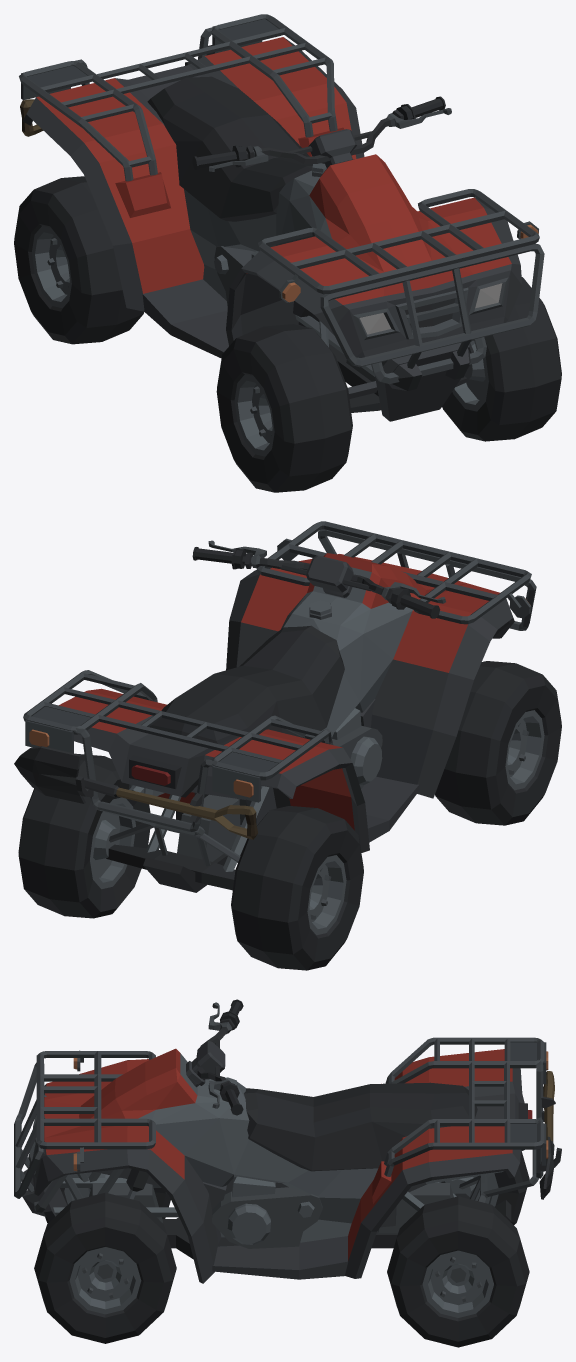
The model's file is SM_Veh_QuadBike_01.fbx.
3 views of the same model, one above another, from view 1: azimuth 30°, elevation 25°; view 2: azimuth 150°, elevation 25°; view 3: azimuth 270°, elevation 25° (orthographic). The views are drawn at different scales.
Visible parts, largest first — view 1: SM_Veh_QuadBike_01, SM_Veh_QuadBike_Wheel_fr, SM_Veh_QuadBike_Wheel_rr, SM_Veh_QuadBike_Wheel_fl, SM_Veh_QuadBike_HandleBar_01; view 2: SM_Veh_QuadBike_01, SM_Veh_QuadBike_Wheel_rr, SM_Veh_QuadBike_Wheel_fr, SM_Veh_QuadBike_Wheel_rl, SM_Veh_QuadBike_Shovel_01, SM_Veh_QuadBike_HandleBar_01; view 3: SM_Veh_QuadBike_01, SM_Veh_QuadBike_Wheel_rl, SM_Veh_QuadBike_Wheel_fl, SM_Veh_QuadBike_HandleBar_01, SM_Veh_QuadBike_Wheel_rr, SM_Veh_QuadBike_Shovel_01, SM_Veh_QuadBike_Wheel_fr.
Part boxes in pixels (x1,y1,x2,y2): SM_Veh_QuadBike_01: (19, 14, 544, 421); SM_Veh_QuadBike_Wheel_fr: (216, 324, 352, 492); SM_Veh_QuadBike_Wheel_rr: (14, 176, 143, 344); SM_Veh_QuadBike_Wheel_fl: (442, 277, 561, 441); SM_Veh_QuadBike_HandleBar_01: (192, 96, 451, 171); SM_Veh_QuadBike_01: (23, 521, 536, 892); SM_Veh_QuadBike_Wheel_rr: (231, 806, 363, 970); SM_Veh_QuadBike_Wheel_fr: (435, 661, 561, 825); SM_Veh_QuadBike_Wheel_rl: (18, 753, 150, 918); SM_Veh_QuadBike_Shovel_01: (14, 746, 257, 839); SM_Veh_QuadBike_HandleBar_01: (192, 540, 445, 618); SM_Veh_QuadBike_01: (14, 1037, 548, 1283); SM_Veh_QuadBike_Wheel_rl: (387, 1196, 529, 1347); SM_Veh_QuadBike_Wheel_fl: (34, 1192, 176, 1343); SM_Veh_QuadBike_HandleBar_01: (186, 999, 243, 1115); SM_Veh_QuadBike_Wheel_rr: (439, 1151, 529, 1224); SM_Veh_QuadBike_Shovel_01: (537, 1070, 561, 1199); SM_Veh_QuadBike_Wheel_fr: (45, 1172, 170, 1223).
Size of the model in its own units: 119 by 112 by 227.
